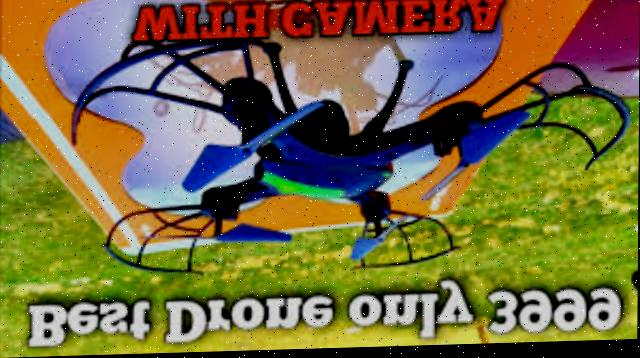drone: (48, 20, 640, 286)
